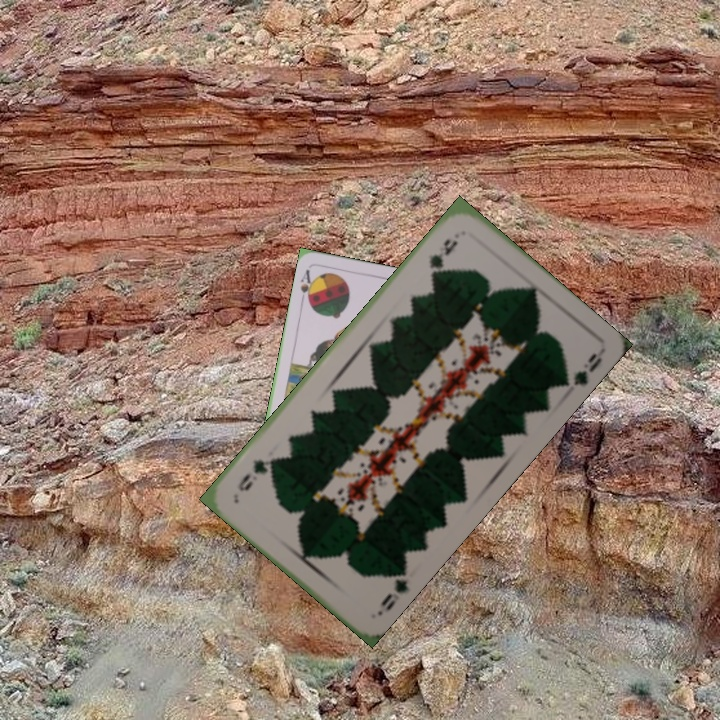G9: (376, 562, 412, 614), (425, 234, 461, 279)
SA: (296, 266, 317, 306)
